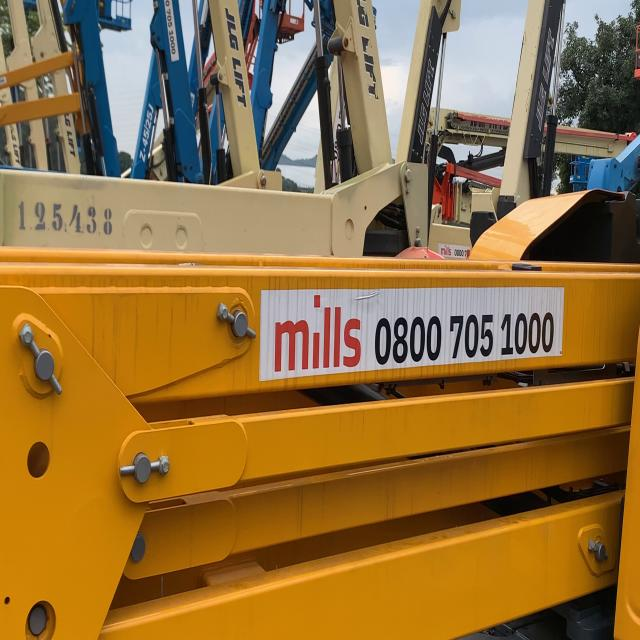Adesivo Longo: (258, 284, 566, 389)
